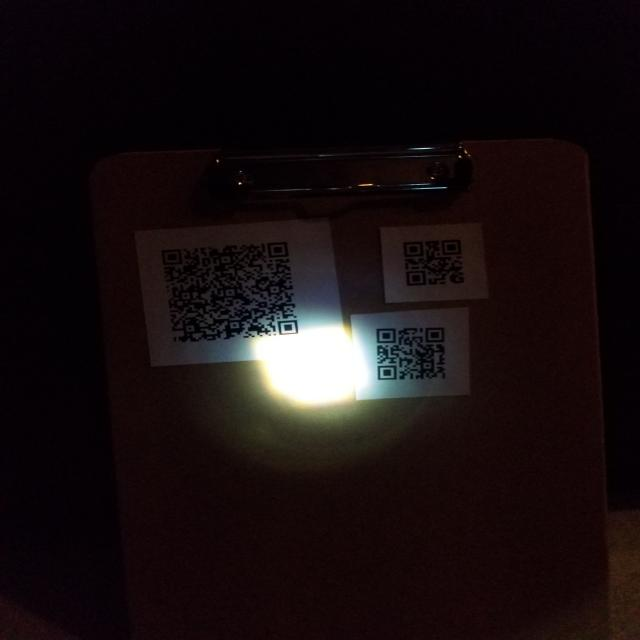QR_CODE: (149, 228, 308, 351), (359, 318, 463, 390), (391, 228, 477, 294)
